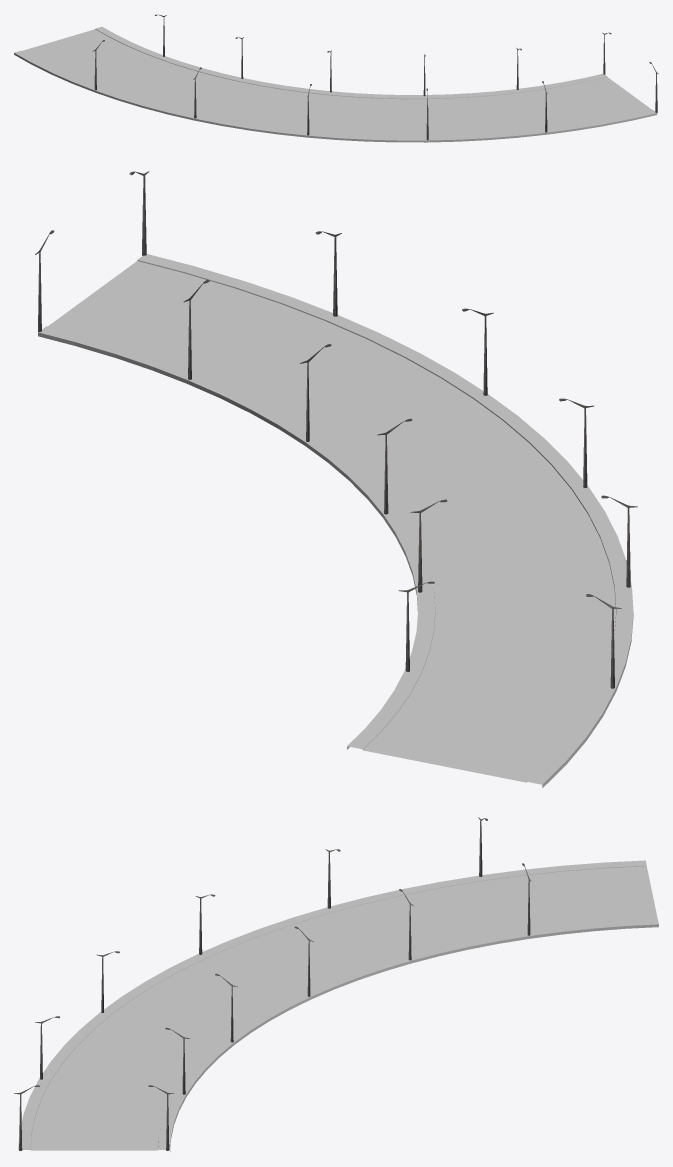
Rendered from Big_Road_85.FBX.
The picture shows the model from 3 angles, top to bottom: view 1: azimuth 30°, elevation 25°; view 2: azimuth 150°, elevation 25°; view 3: azimuth 270°, elevation 25°; orthographic projection. The views are drawn at different scales.
Visible parts, largest first — view 1: Big_Road_85, city_light016; view 2: Big_Road_85, city_light016; view 3: Big_Road_85, city_light016.
Part boxes in pixels (x1,y1,x2,y2): Big_Road_85: (14, 26, 657, 142); city_light016: (93, 14, 658, 140); Big_Road_85: (38, 254, 633, 787); city_light016: (35, 171, 637, 688); Big_Road_85: (18, 860, 658, 1151); city_light016: (14, 817, 531, 1150).
Bounding box in the file's own units: 102 × 96.31 × 11.04.
